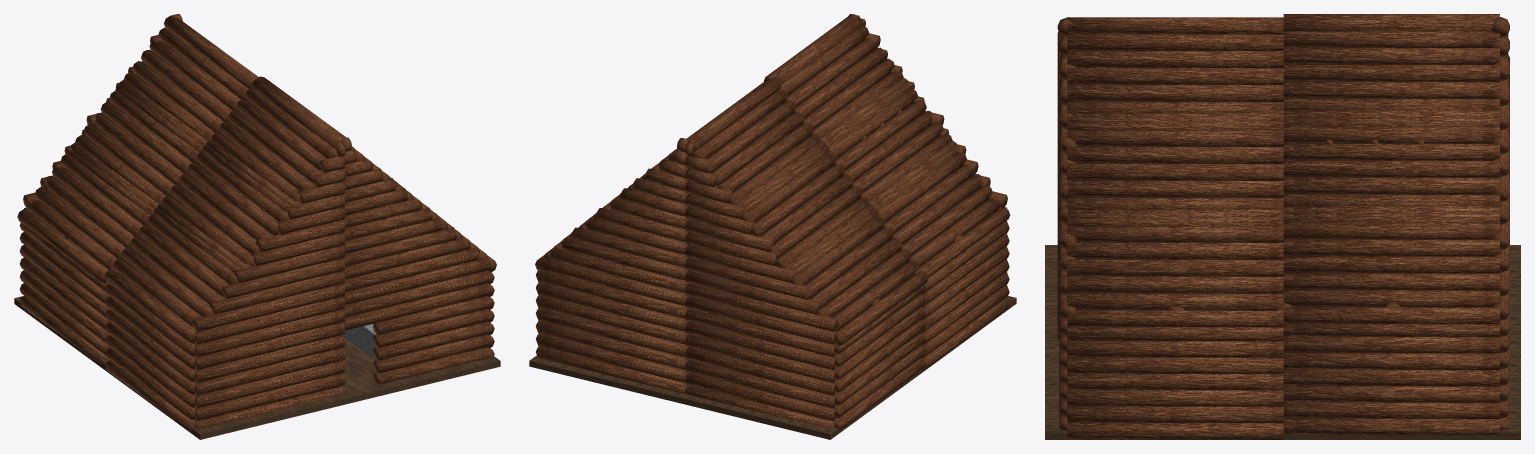
File: PotionShop.glb
3 renders of one model, left to right at view 1: azimuth 30°, elevation 25°; view 2: azimuth 150°, elevation 25°; view 3: azimuth 270°, elevation 25°, orthographic. The views are drawn at different scales.
Visible parts, largest first — view 1: Wall.001, Wall.012, Wall.007, Wall.008, Wall.009, Wall.003, Wall.013, Floor, Wall.006, Desk2; view 2: Wall, Wall.010, Wall.007, Wall.008, Wall.009, Wall.003, Wall.011, Floor, Wall.006, Wall.012, Wall.013; view 3: Wall.002, Wall.004, Wall.005, Wall.006, Wall.009, Floor, Wall.011, Wall.013, Wall.010, Wall.012, Wall.001, Wall.
Boxes of the visible parts, x1,y1,x2,y2 form: Wall.001: (195, 270, 491, 429); Wall.012: (192, 207, 491, 357); Wall.007: (17, 143, 251, 343); Wall.008: (66, 79, 300, 272); Wall.009: (115, 17, 346, 212); Wall.003: (19, 222, 195, 431); Wall.013: (255, 137, 417, 252); Floor: (14, 296, 500, 439); Wall.006: (164, 16, 398, 187); Desk2: (342, 324, 375, 360); Wall: (537, 271, 834, 429); Wall.010: (537, 208, 838, 356); Wall.007: (781, 140, 1010, 345); Wall.008: (732, 77, 958, 281); Wall.009: (686, 14, 912, 216); Wall.003: (833, 221, 1009, 430); Wall.011: (611, 138, 774, 251); Floor: (529, 296, 1016, 439); Wall.006: (642, 16, 863, 180); Wall.012: (939, 128, 1007, 222); Wall.013: (848, 14, 944, 125); Wall.002: (1067, 324, 1499, 439); Wall.004: (1067, 206, 1499, 327); Wall.005: (1067, 110, 1499, 226); Wall.006: (1067, 14, 1499, 130); Wall.009: (1067, 17, 1498, 34); Floor: (1045, 245, 1520, 439); Wall.011: (1492, 17, 1509, 176); Wall.013: (1057, 17, 1077, 176); Wall.010: (1492, 169, 1509, 336); Wall.012: (1057, 127, 1077, 336); Wall.001: (1057, 225, 1067, 430); Wall: (1500, 314, 1509, 430).
Bounding box in the file's own units: 12.73 × 10.14 × 13.2.
Materials: 4 (4 with a texture image).
